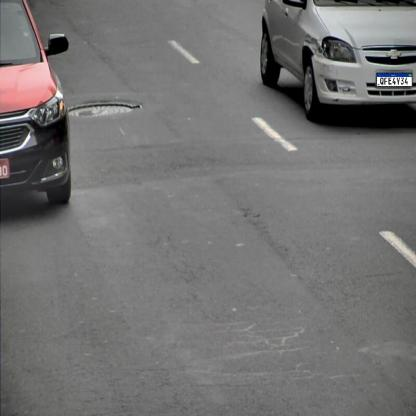PlacaM: (376, 72, 412, 86)
